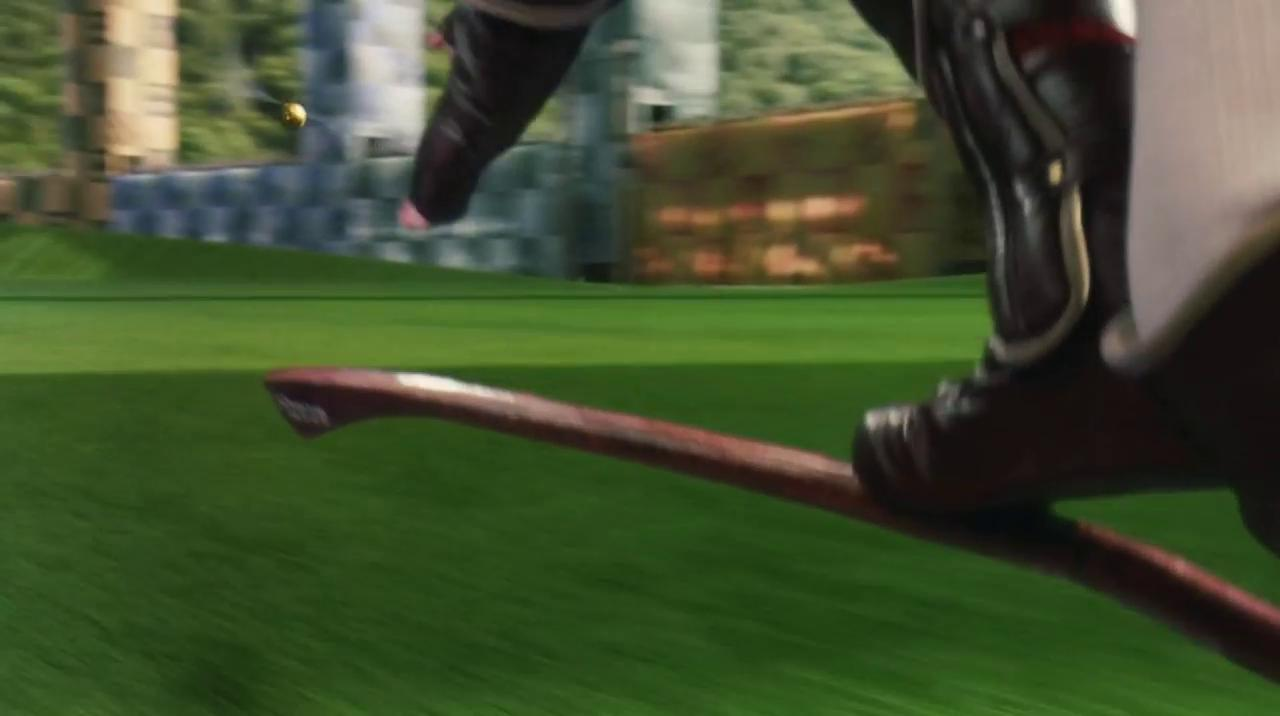snitch: (278, 98, 307, 134)
